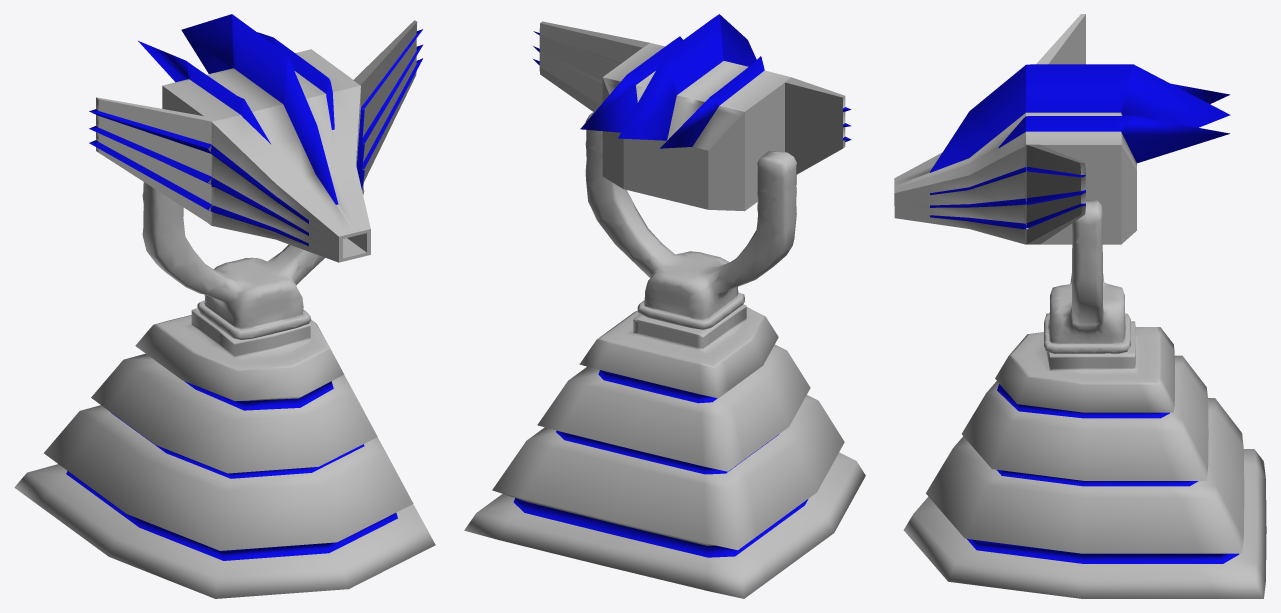
File: LaserTurret_MatGlow.fbx
3 renders of one model, left to right at view 1: azimuth 30°, elevation 25°; view 2: azimuth 150°, elevation 25°; view 3: azimuth 270°, elevation 25°, orthographic. The views are drawn at different scales.
Visible parts, largest first — view 1: pCube2, polySurface6, polySurface8, polySurface4, polySurface7; view 2: pCube2, polySurface6, polySurface8, polySurface7, polySurface4; view 3: pCube2, polySurface6, polySurface8, polySurface7, polySurface4.
Part boxes in pixels (bbox=[...]): pCube2: bbox=[14, 308, 435, 598]; polySurface6: bbox=[138, 14, 370, 262]; polySurface8: bbox=[142, 182, 364, 339]; polySurface4: bbox=[89, 97, 211, 224]; polySurface7: bbox=[353, 20, 423, 182]; pCube2: bbox=[464, 304, 865, 598]; polySurface6: bbox=[580, 14, 790, 211]; polySurface8: bbox=[585, 110, 796, 329]; polySurface7: bbox=[533, 21, 649, 111]; polySurface4: bbox=[785, 77, 851, 174]; pCube2: bbox=[903, 321, 1266, 598]; polySurface6: bbox=[894, 64, 1230, 244]; polySurface8: bbox=[1044, 199, 1130, 353]; polySurface7: bbox=[1026, 144, 1085, 244]; polySurface4: bbox=[1036, 14, 1085, 64].
Size of the model in its own units: 26.92 by 37.53 by 27.
